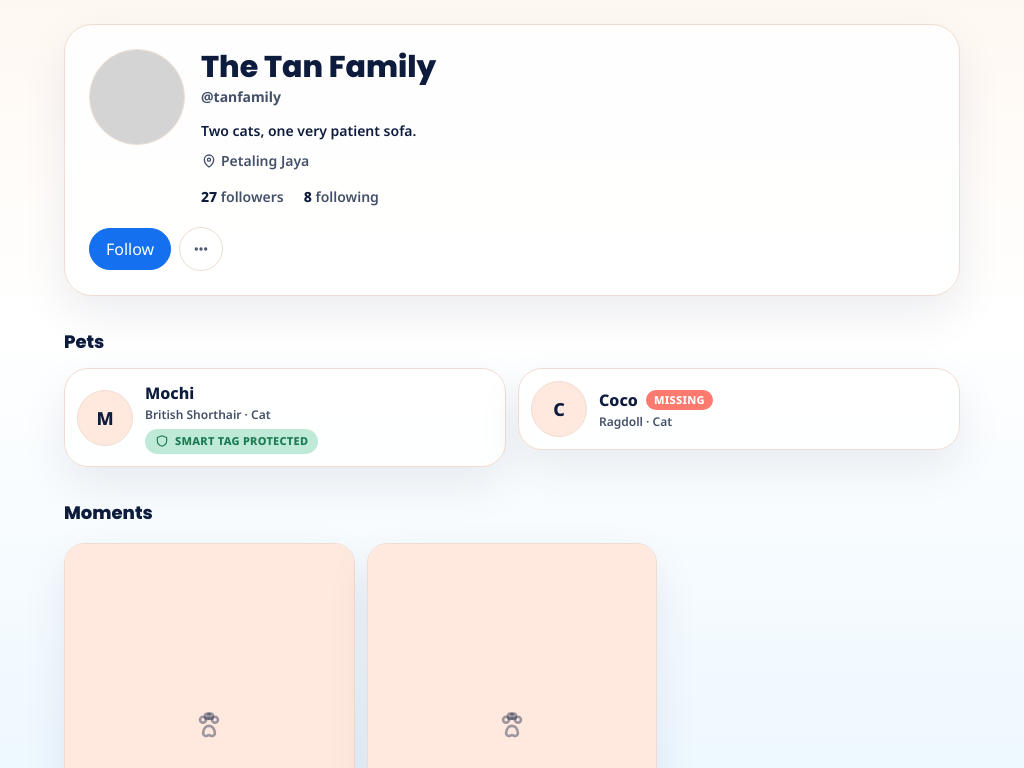
OwnerSocialProfileView › offers Follow to a signed-in visitor and moves the count with it
Click the button with test id "follow-button". click: (130, 249)
box: [89, 228, 171, 270]
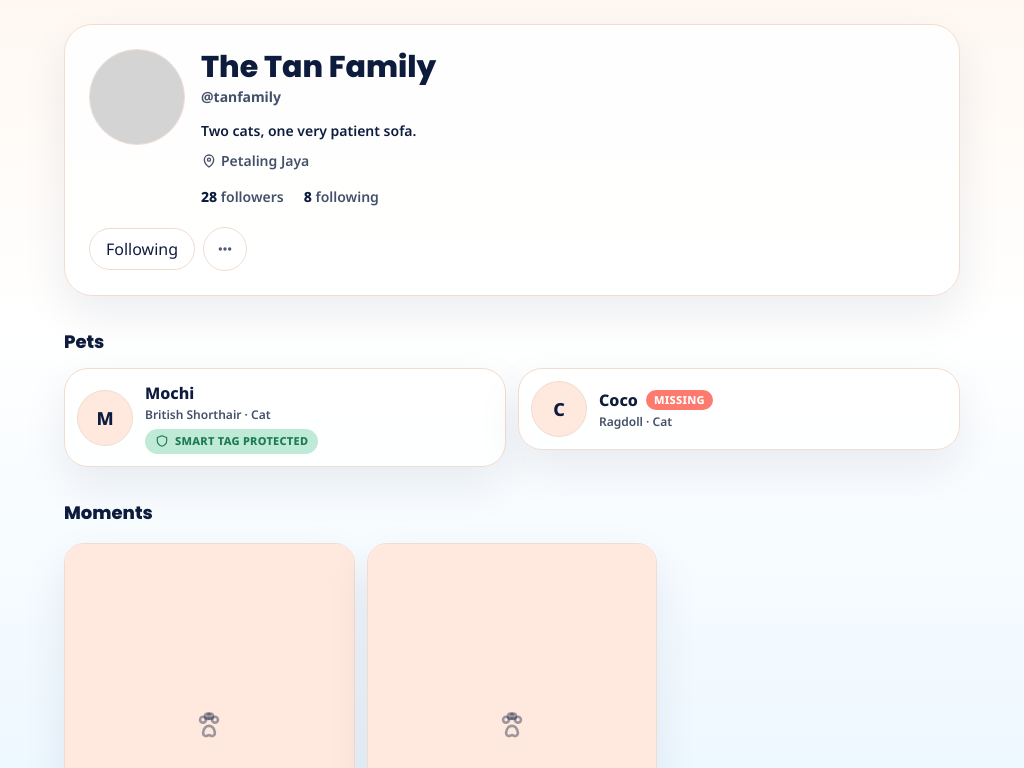
Expected: the text "28" is shown, [201, 187, 217, 206]
Expected: the button with test id "follow-button" reads "Following", [89, 228, 195, 270]
